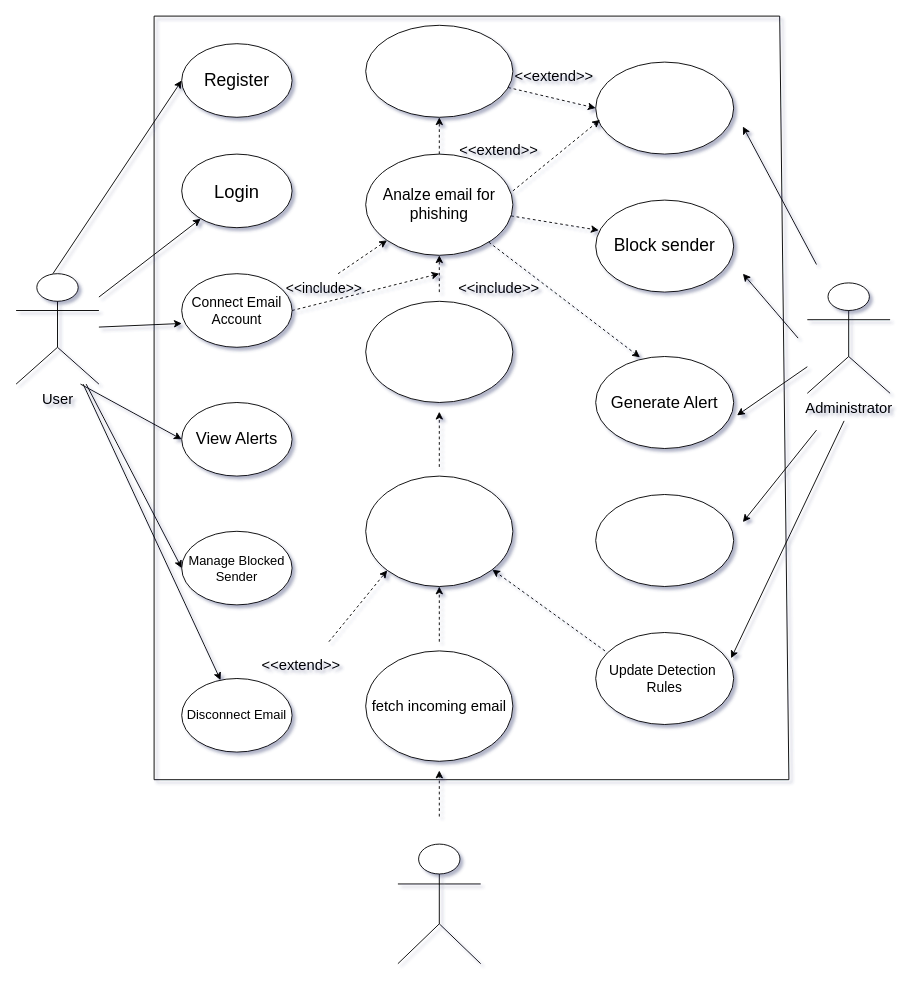
Some shapes in this 914 by 1008 pixel diagram are drawn without their labels. Each missing label, with the box of its shape:
Assign risk score: (365, 300, 513, 402)
Detect phishing email: (365, 24, 513, 117)
Email Service Provider: (397, 843, 481, 964)
learn from user feedback: (365, 475, 513, 586)
Manage Users: (595, 494, 734, 586)
Quarantine Email: (595, 61, 734, 154)
